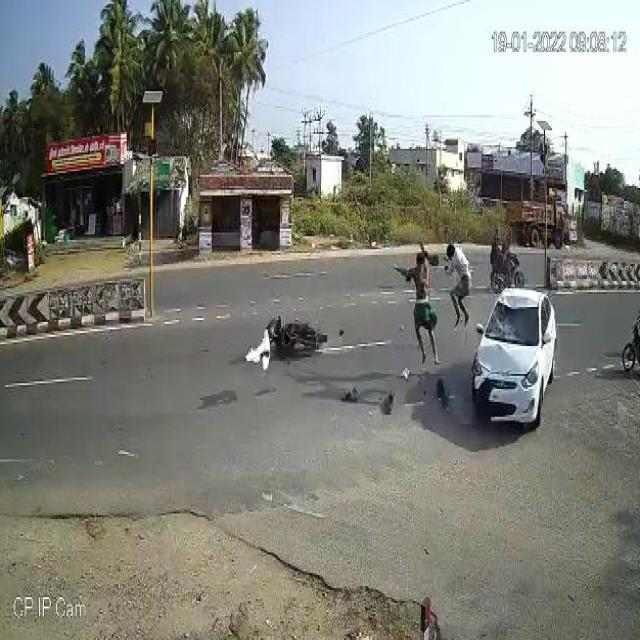accident: (391, 217, 569, 431), (237, 291, 331, 386)
